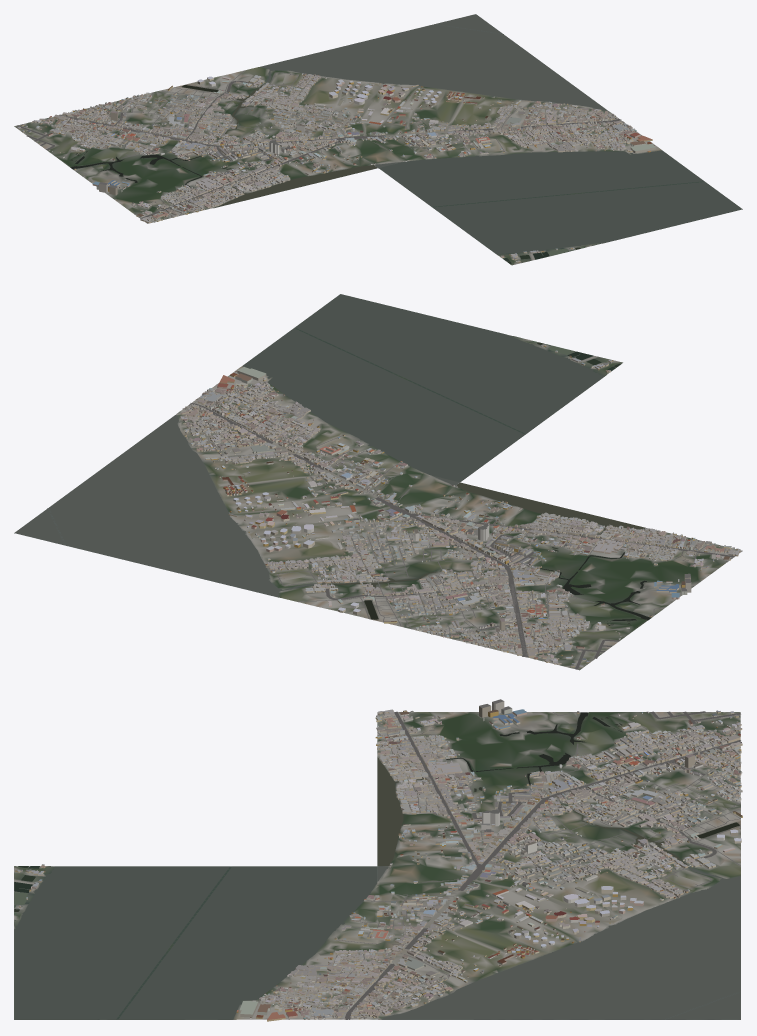
3 views of the same model, one above another, from view 1: azimuth 30°, elevation 25°; view 2: azimuth 150°, elevation 25°; view 3: azimuth 270°, elevation 25° (orthographic). The views are drawn at different scales.
Visible parts, largest first — view 1: water, ground, buildings, roads; view 2: water, ground, buildings, roads; view 3: water, ground, buildings, roads.
Boxes of the visible parts, left/top/right/bottom form: water: left=69, top=14, right=742, bottom=264; ground: left=14, top=24, right=742, bottom=265; buildings: left=17, top=73, right=655, bottom=262; roads: left=16, top=70, right=641, bottom=219; water: left=15, top=294, right=650, bottom=625; ground: left=14, top=294, right=742, bottom=670; buildings: left=180, top=339, right=740, bottom=667; roads: left=177, top=384, right=734, bottom=669; water: left=14, top=712, right=740, bottom=1019; ground: left=14, top=712, right=740, bottom=1019; buildings: left=15, top=699, right=742, bottom=1021; roads: left=267, top=711, right=741, bottom=1019.
Size of the model in its own units: 2837 by 59.92 by 2809.
